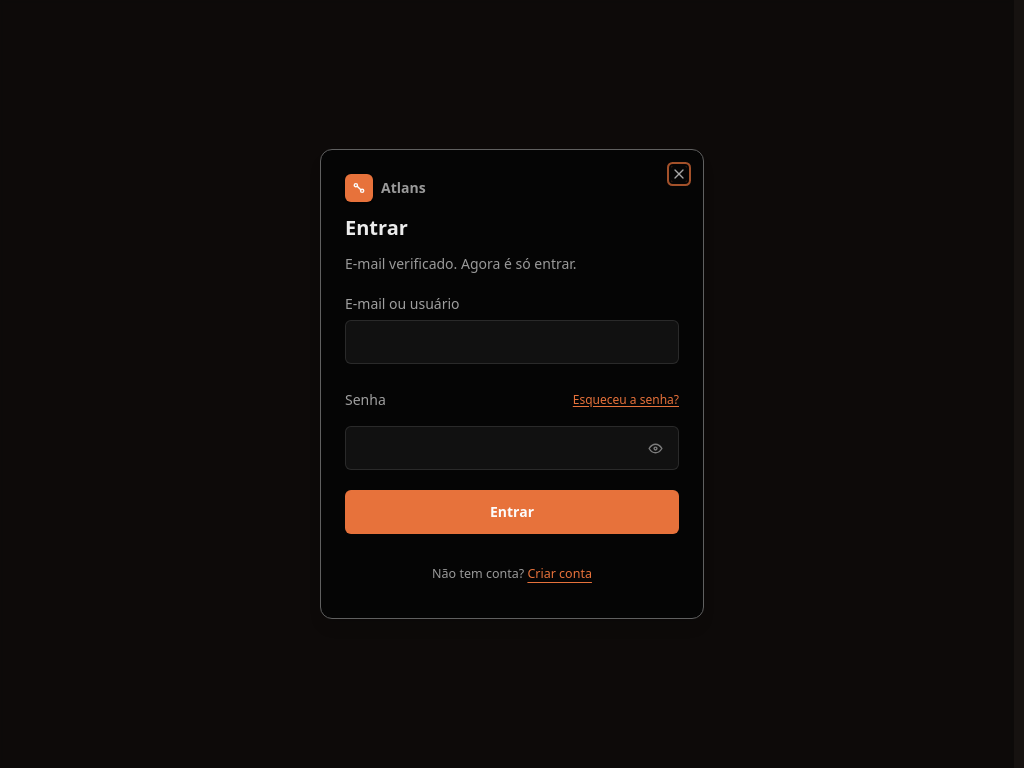
Test: ModalDeEntrada — a verificação de e-mail › o token só é gasto UMA vez, mesmo com o painel montando de novo
In the field labelled "E-mail ou usuário": (512, 342) [345,320,679,364], type "fulana"
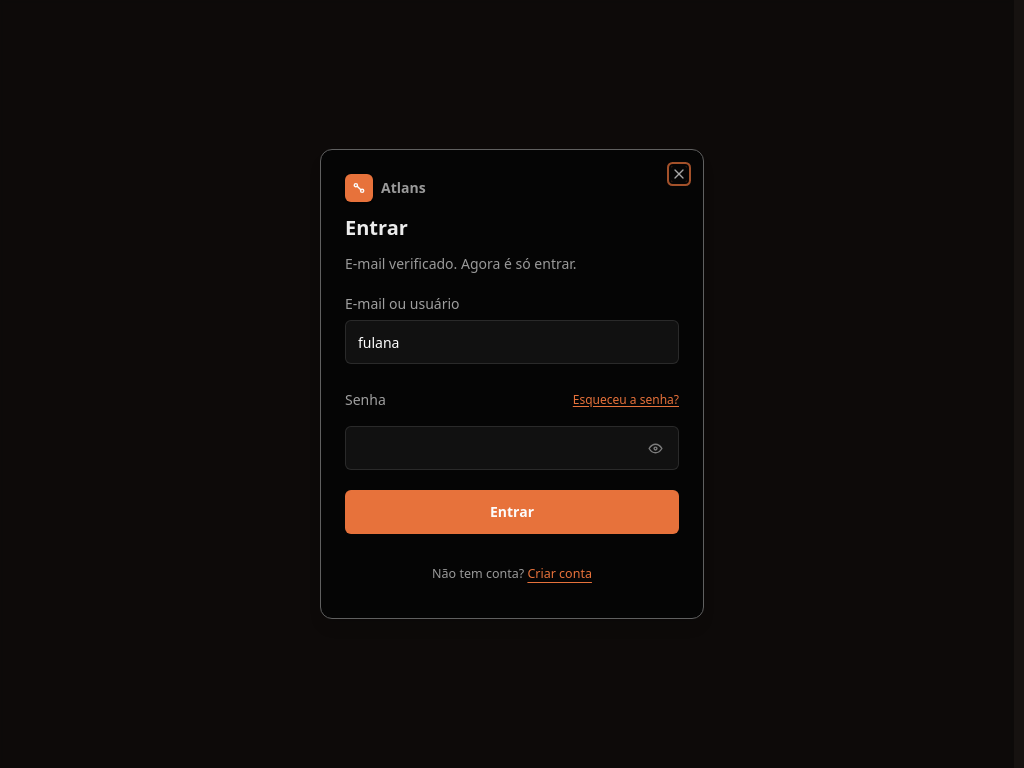
In the password field labelled "Senha": (512, 448) [345,426,679,470], type "x"
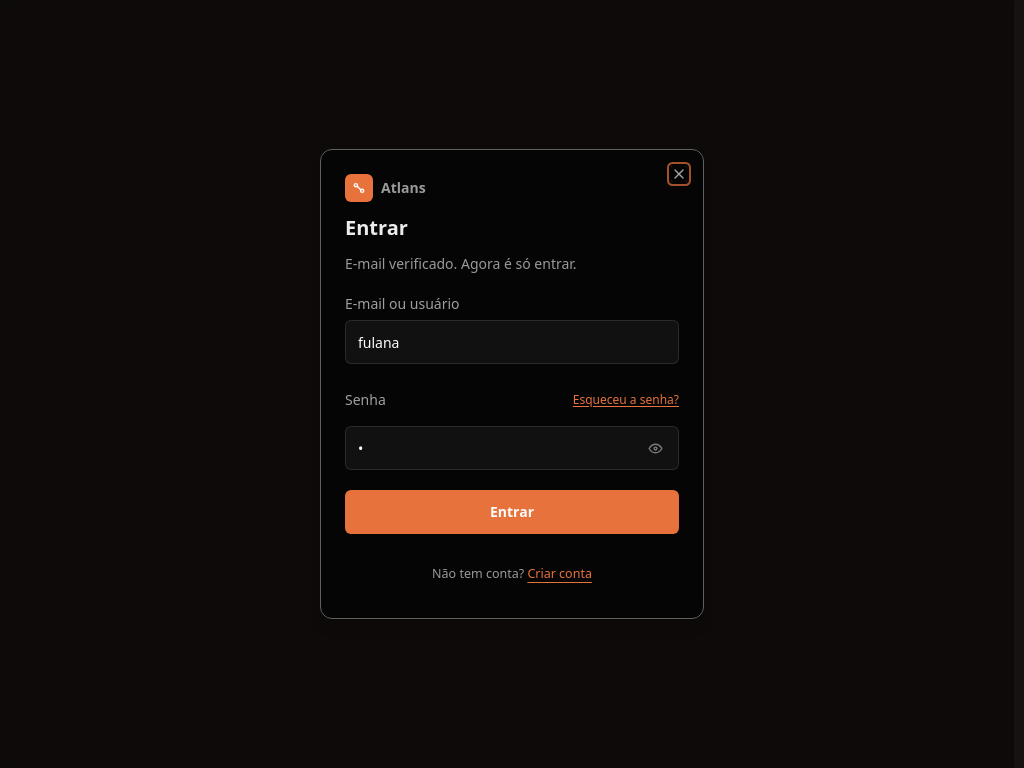
Submit the form labelled "E-mail ou usuário Senha Esqueceu a senha? Entrar", box [345,294,679,534]
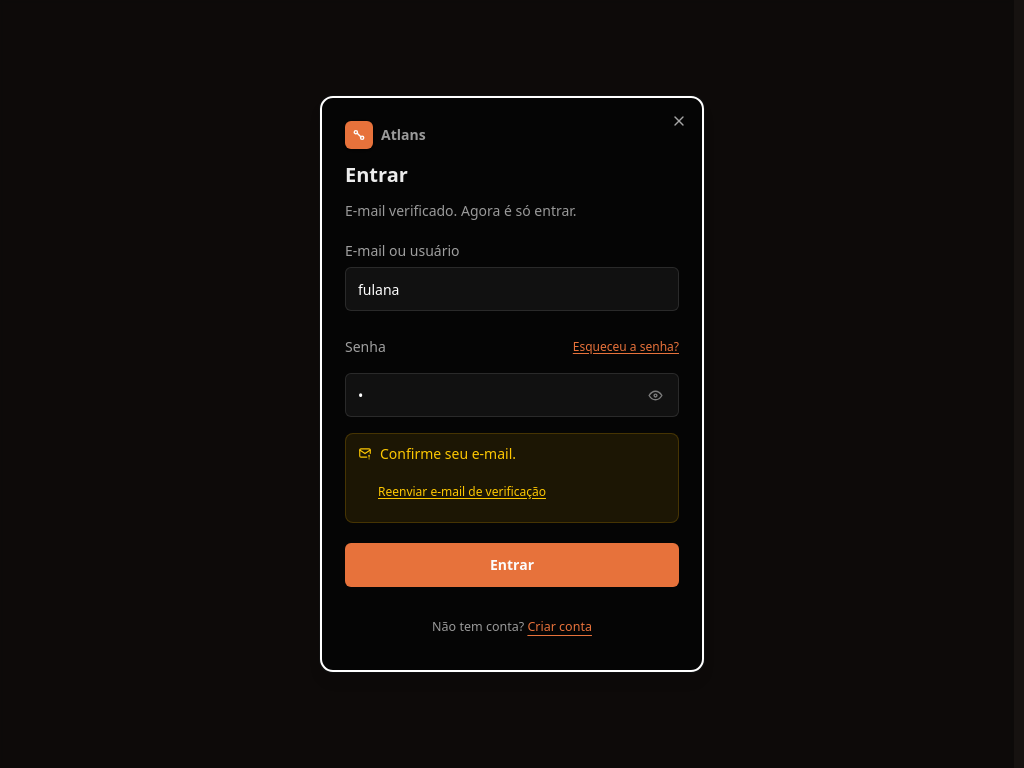
Click the button "Reenviar e-mail de verificação": (462, 492) [378,472,546,512]
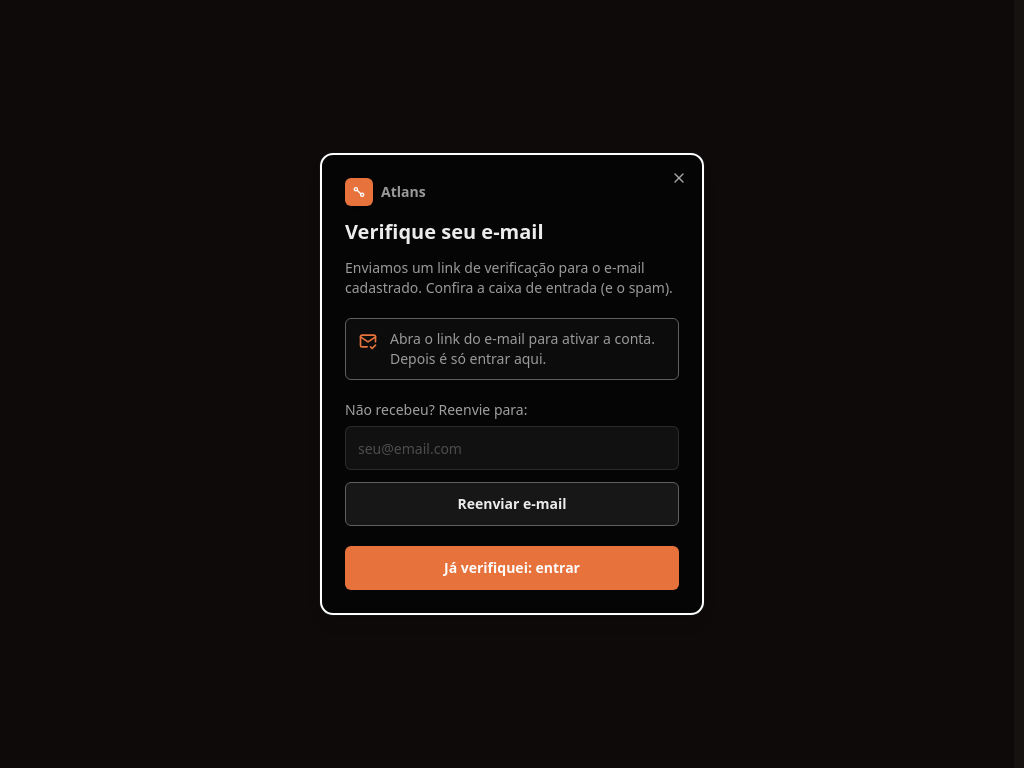
Check: the dialog "Verifique seu e-mail" is shown, box [320,153,704,615]
